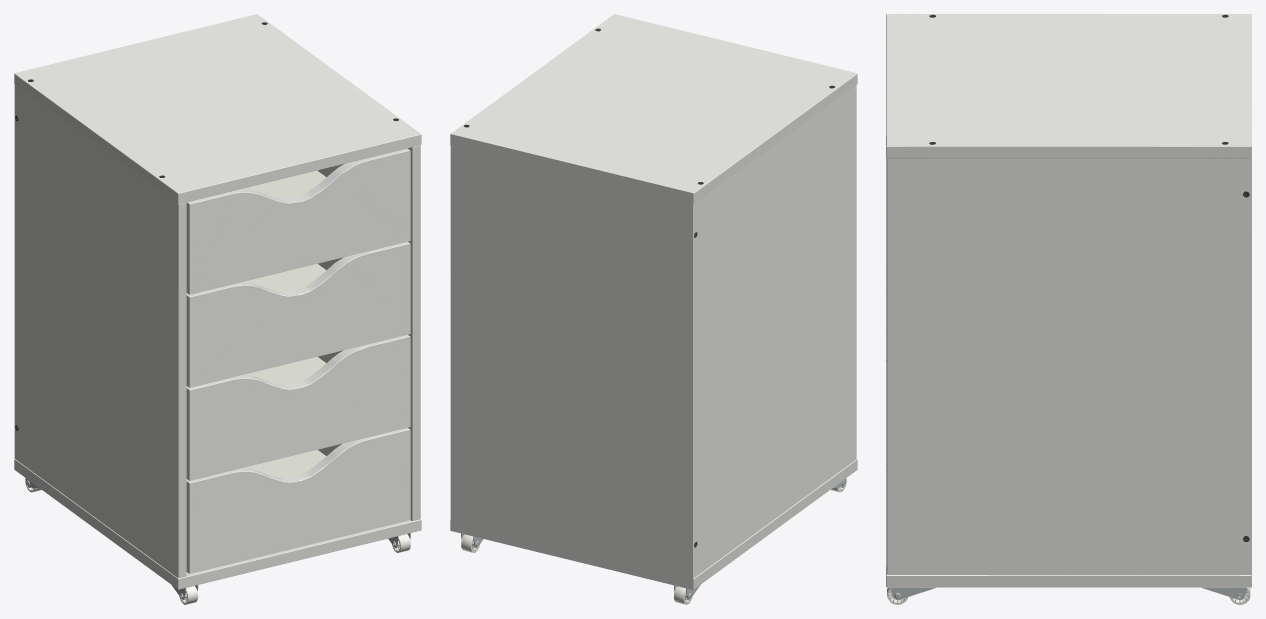
3 views of the same model, side by side, from view 1: azimuth 30°, elevation 25°; view 2: azimuth 150°, elevation 25°; view 3: azimuth 270°, elevation 25° (orthographic). The views are drawn at different scales.
Parts seen in each view (by area): view 1: 60609071-FRIIDROTT001; view 2: 60609071-FRIIDROTT001; view 3: 60609071-FRIIDROTT001.
Boxes of the visible parts, x1,y1,x2,y2 form: 60609071-FRIIDROTT001: (14,14,421,604); 60609071-FRIIDROTT001: (450,14,857,604); 60609071-FRIIDROTT001: (886,14,1251,604).
Size of the model in its own units: 0.343 by 0.5615 by 0.4001.
1 material, 1 textured.
